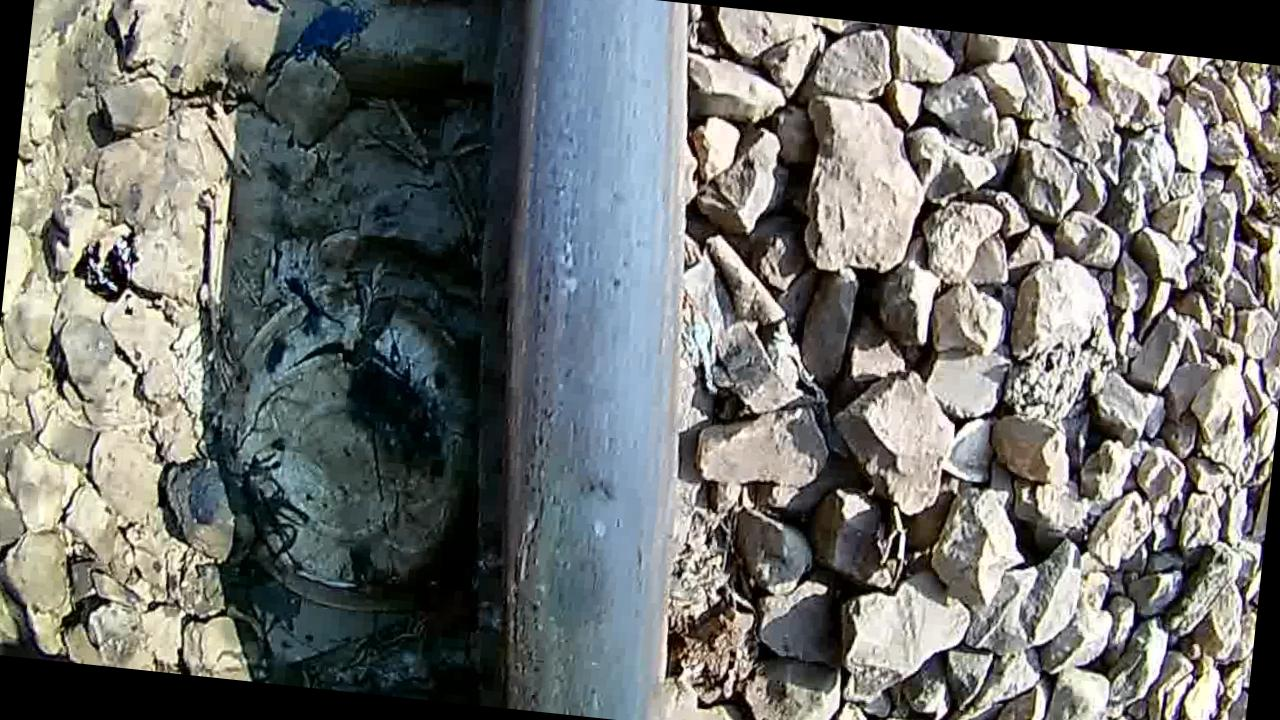bolt_missing: (499, 422, 678, 720)
